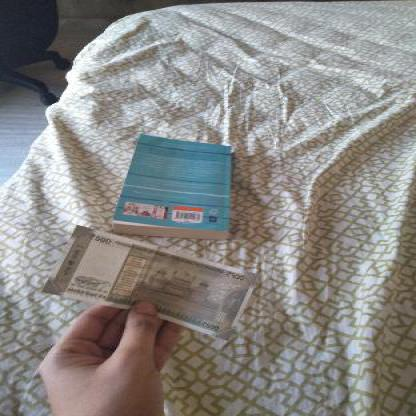New500Back: (40, 224, 260, 338)
